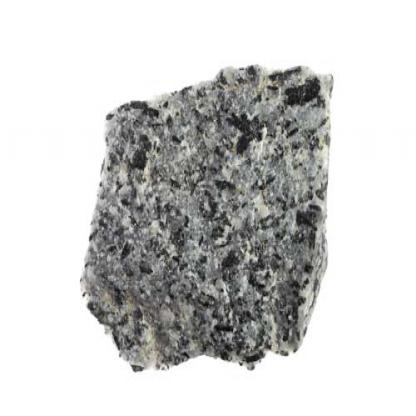Igneous_Diorite: (71, 52, 334, 371)
